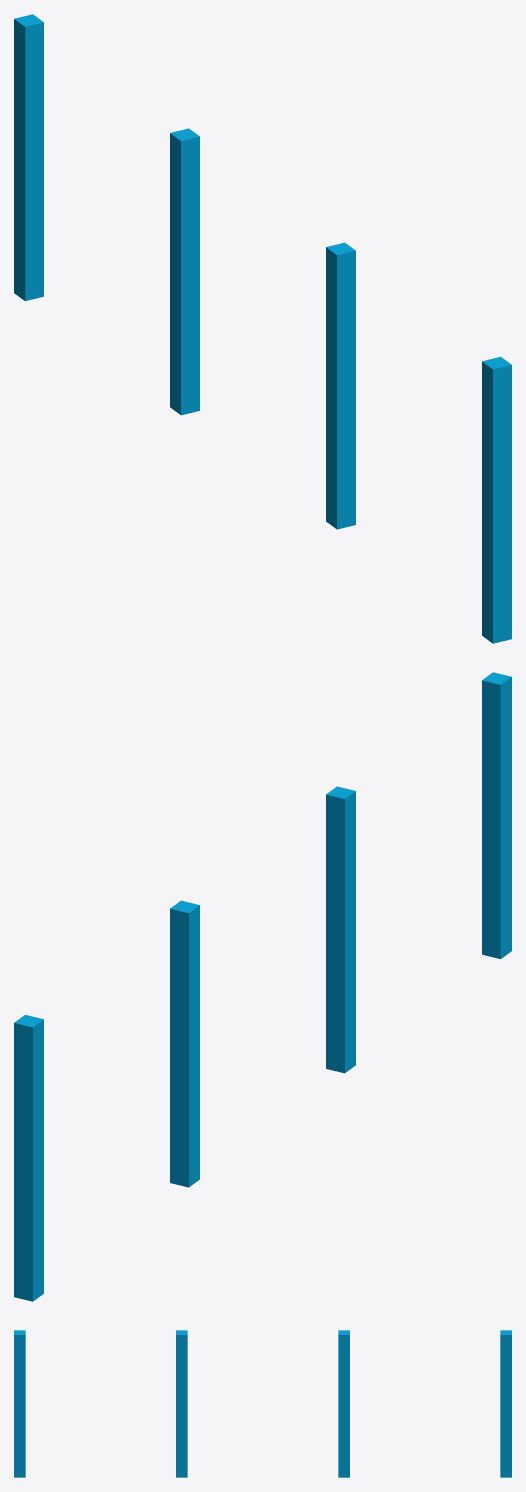
File: Fence_02_x4_Lod0.fbx
The picture shows the model from 3 angles, top to bottom: view 1: azimuth 30°, elevation 25°; view 2: azimuth 150°, elevation 25°; view 3: azimuth 270°, elevation 25°; orthographic projection. The views are drawn at different scales.
Visible parts, largest first — view 1: Fence_02_x4_Lod0; view 2: Fence_02_x4_Lod0; view 3: Fence_02_x4_Lod0.
Boxes of the visible parts, box(x1,y1,x2,y2) form: Fence_02_x4_Lod0: box(14, 14, 511, 643); Fence_02_x4_Lod0: box(14, 672, 511, 1301); Fence_02_x4_Lod0: box(14, 1330, 511, 1477).
Size of the model in its own units: 21.01 by 291 by 921.
